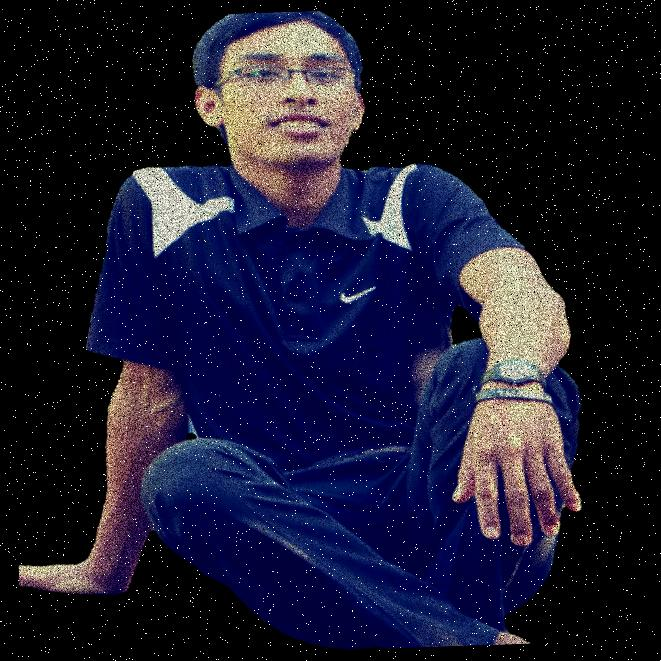Pessoa: (347, 0, 503, 660)
